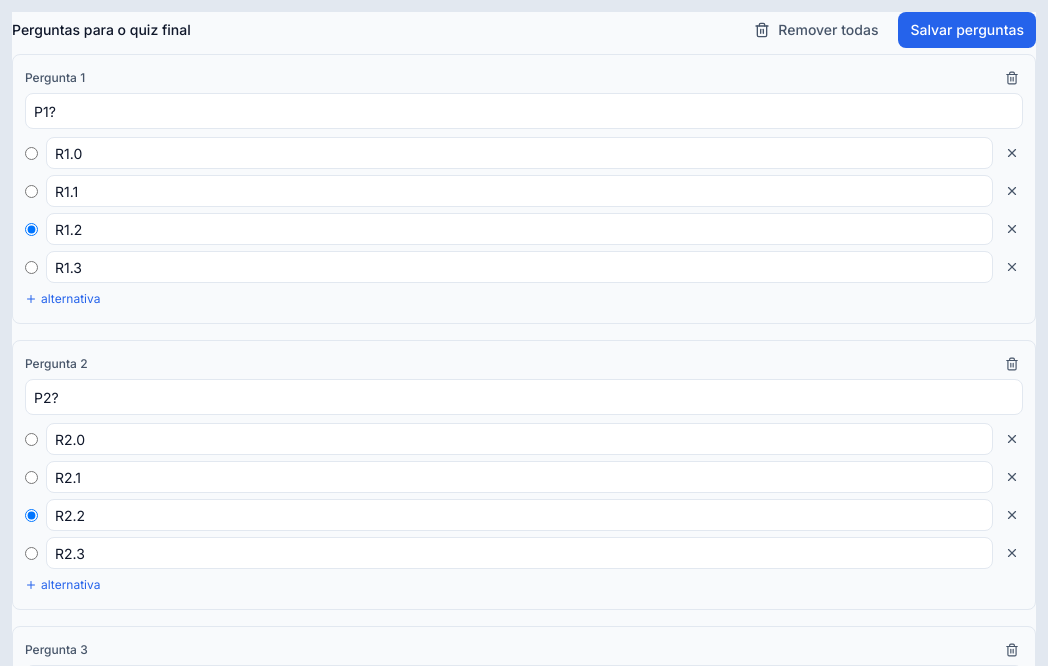
Scenario: EditorQuiz › o 422 do servidor aparece
Click the button "Salvar perguntas". click: (967, 30)
box: x1=898 y1=12 x2=1036 y2=48
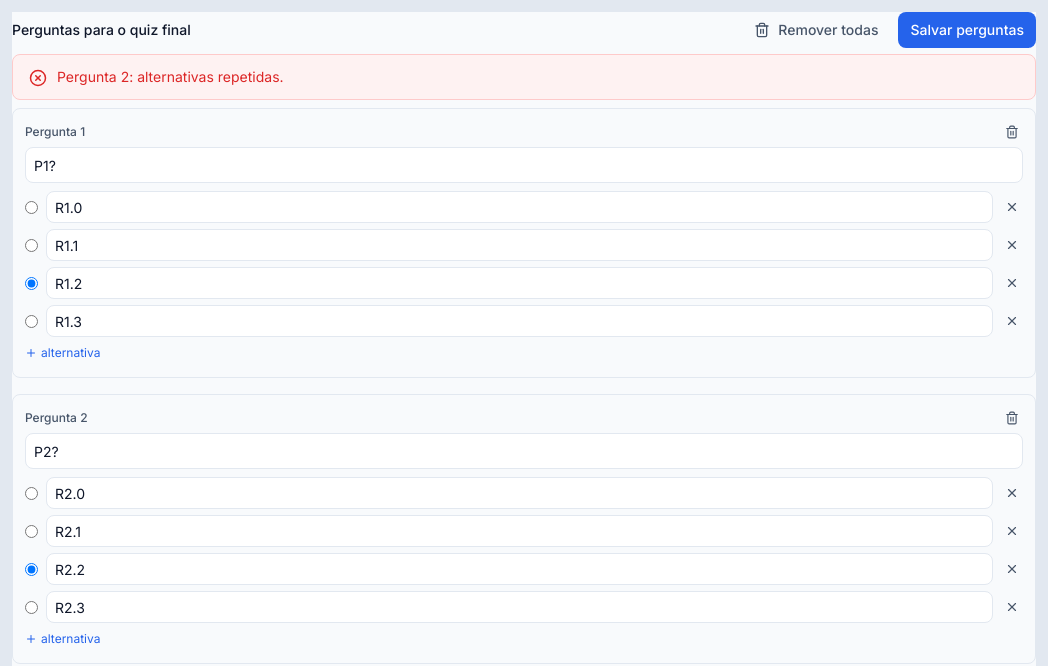
Expected: the text "Pergunta 2: alternativas repetidas." is shown, x1=57 y1=68 x2=284 y2=85
